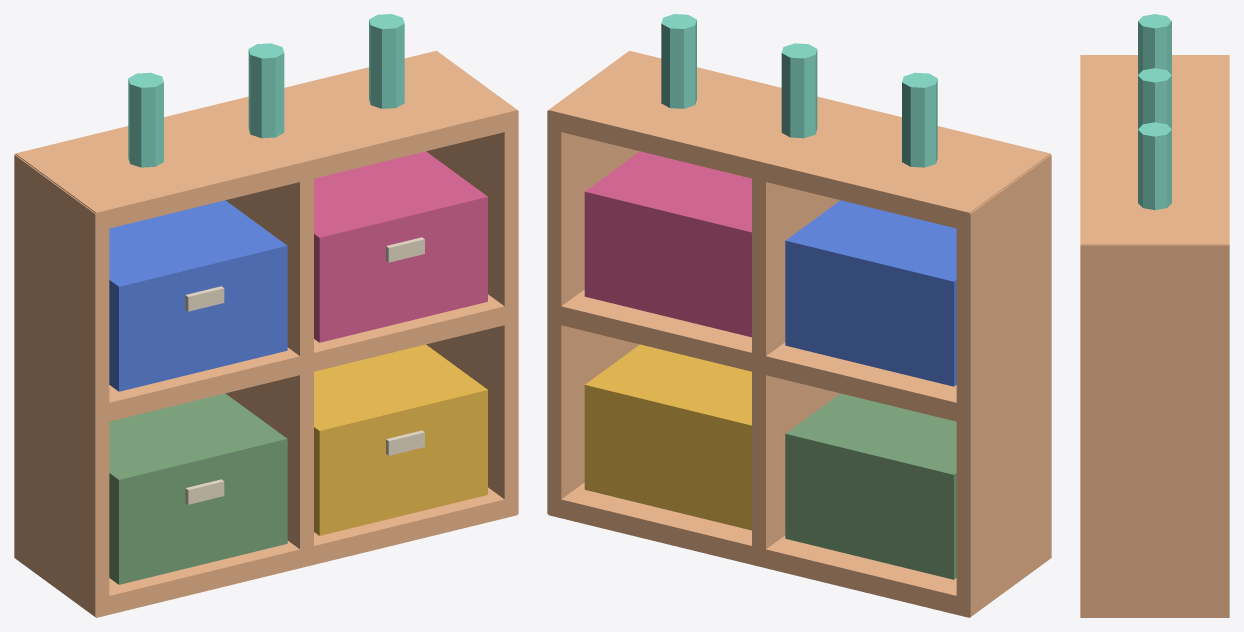
3 renders of one model, left to right at view 1: azimuth 30°, elevation 25°; view 2: azimuth 150°, elevation 25°; view 3: azimuth 270°, elevation 25°, orthographic. The views are drawn at different scales.
Visible parts, largest first — view 1: Cubbies divider, Cubbies shelf.002, Storage bin, Storage bin.002, Storage bin.001, Storage bin.003, Cubbies divider.002, Cubbies divider.001, Cubbies shelf, Cubbies shelf.001, Bottle on gym rack.001, Bottle on gym rack.002 (+5 smaller); view 2: Cubbies divider, Cubbies shelf.002, Storage bin, Storage bin.002, Storage bin.001, Storage bin.003, Cubbies divider.002, Cubbies divider.001, Cubbies shelf, Cubbies shelf.001, Bottle on gym rack.001, Bottle on gym rack.002 (+1 smaller); view 3: Cubbies divider.002, Cubbies shelf.002, Bottle on gym rack.002, Bottle on gym rack.001, Bottle on gym rack.
Part boxes in pixels (x1=…): Cubbies divider: x1=14, y1=154, x2=109, y2=616; Cubbies shelf.002: x1=15, y1=50, x2=517, y2=230; Storage bin: x1=109, y1=393, x2=287, y2=584; Storage bin.002: x1=109, y1=200, x2=287, y2=391; Storage bin.001: x1=314, y1=344, x2=487, y2=535; Storage bin.003: x1=314, y1=151, x2=487, y2=342; Cubbies divider.002: x1=426, y1=110, x2=518, y2=516; Cubbies divider.001: x1=225, y1=161, x2=313, y2=565; Cubbies shelf: x1=95, y1=487, x2=517, y2=617; Cubbies shelf.001: x1=96, y1=294, x2=517, y2=424; Bottle on gym rack.001: x1=248, y1=43, x2=284, y2=138; Bottle on gym rack.002: x1=369, y1=14, x2=404, y2=108; Cubbies divider: x1=956, y1=154, x2=1051, y2=616; Cubbies shelf.002: x1=548, y1=50, x2=1050, y2=231; Storage bin: x1=785, y1=393, x2=956, y2=579; Storage bin.002: x1=785, y1=200, x2=956, y2=386; Storage bin.001: x1=584, y1=344, x2=751, y2=530; Storage bin.003: x1=584, y1=151, x2=751, y2=337; Cubbies divider.002: x1=547, y1=110, x2=639, y2=516; Cubbies divider.001: x1=752, y1=161, x2=840, y2=564; Cubbies shelf: x1=548, y1=482, x2=970, y2=617; Cubbies shelf.001: x1=561, y1=289, x2=969, y2=424; Bottle on gym rack.001: x1=781, y1=43, x2=817, y2=138; Bottle on gym rack.002: x1=661, y1=14, x2=696, y2=108; Cubbies divider.002: x1=1080, y1=245, x2=1229, y2=617; Cubbies shelf.002: x1=1080, y1=55, x2=1229, y2=245; Bottle on gym rack.002: x1=1138, y1=122, x2=1171, y2=209; Bottle on gym rack.001: x1=1138, y1=68, x2=1171, y2=128; Bottle on gym rack: x1=1138, y1=14, x2=1171, y2=74.
Size of the model in its own units: 1.05 by 1.16 by 0.35.
1 material, 1 textured.
